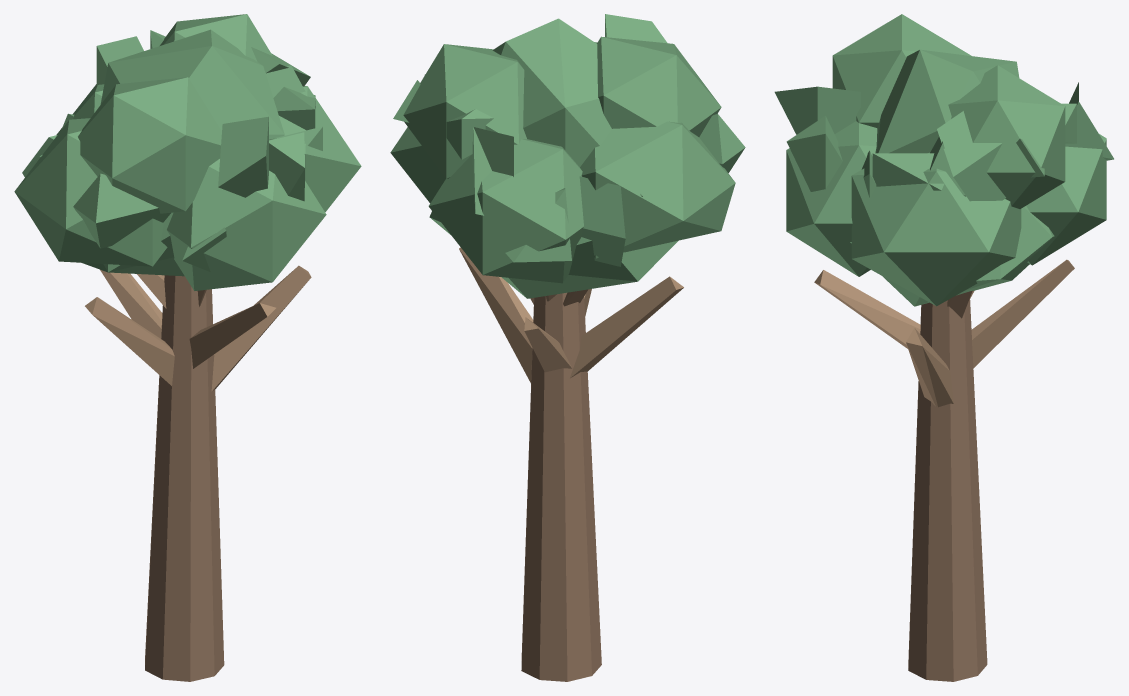
The model's file is peumo-lejos.glb.
3 views of the same model, side by side, from view 1: azimuth 30°, elevation 25°; view 2: azimuth 150°, elevation 25°; view 3: azimuth 270°, elevation 25° (orthographic).
Parts seen in each view (by area): view 1: Follaje, Tronco, Ramas; view 2: Follaje, Tronco, Ramas; view 3: Follaje, Tronco, Ramas.
Boxes of the visible parts, box(x1,y1,x2,y2) form: Follaje: box(14, 14, 361, 290); Tronco: box(145, 275, 224, 681); Ramas: box(85, 265, 311, 391); Follaje: box(390, 14, 745, 298); Tronco: box(521, 292, 601, 681); Ramas: box(459, 247, 683, 383); Follaje: box(774, 14, 1113, 306); Tronco: box(908, 298, 987, 681); Ramas: box(814, 259, 1074, 407).
Size of the model in its own units: 1.65 by 3.37 by 1.67.
